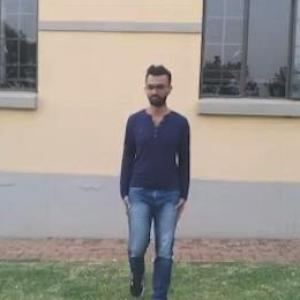follow: (114, 46, 201, 299)
